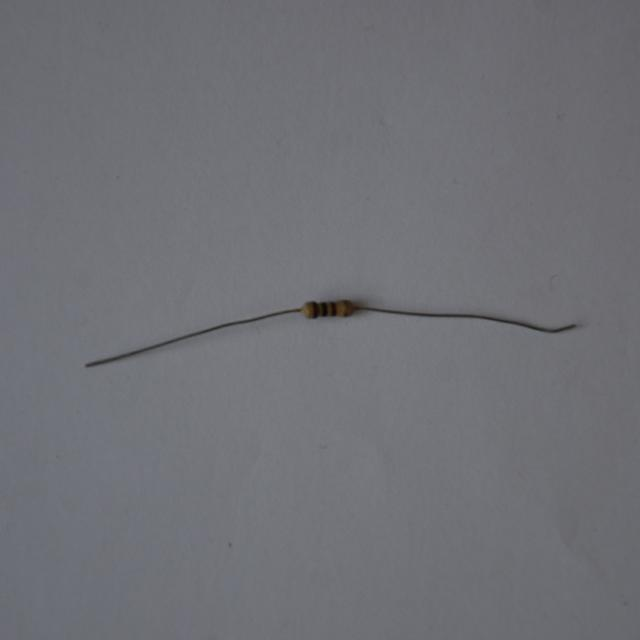black: (323, 303, 327, 315)
brown: (331, 302, 337, 315), (313, 303, 318, 317)
gold: (343, 300, 347, 315)
resistor: (296, 296, 359, 326)
